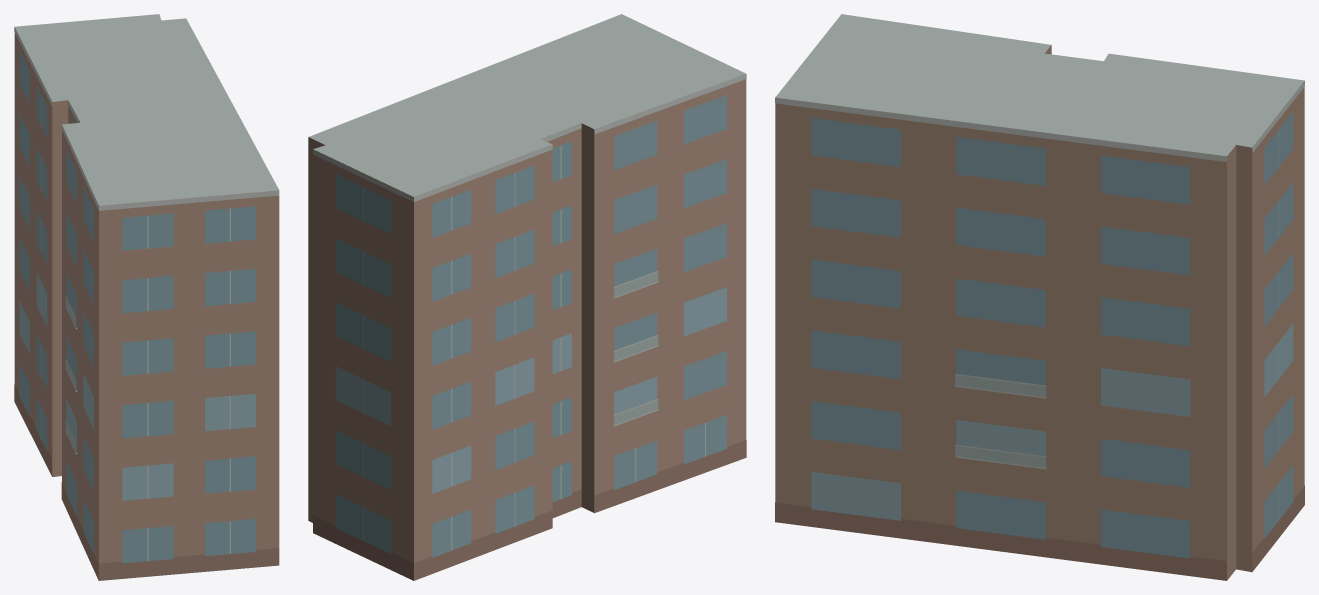
File: survey-upis-32529479.glb
3 renders of one model, left to right at view 1: azimuth 30°, elevation 25°; view 2: azimuth 150°, elevation 25°; view 3: azimuth 270°, elevation 25°, orthographic. The views are drawn at different scales.
Parts seen in each view (by area): view 1: survey-upis-32529479.tmp; view 2: survey-upis-32529479.tmp; view 3: survey-upis-32529479.tmp.
Part boxes in pixels (<box>): survey-upis-32529479.tmp: <box>14,14,279,580</box>; survey-upis-32529479.tmp: <box>308,14,746,580</box>; survey-upis-32529479.tmp: <box>775,14,1304,580</box>.
Size of the model in its own units: 12.88 by 17.9 by 20.25.
